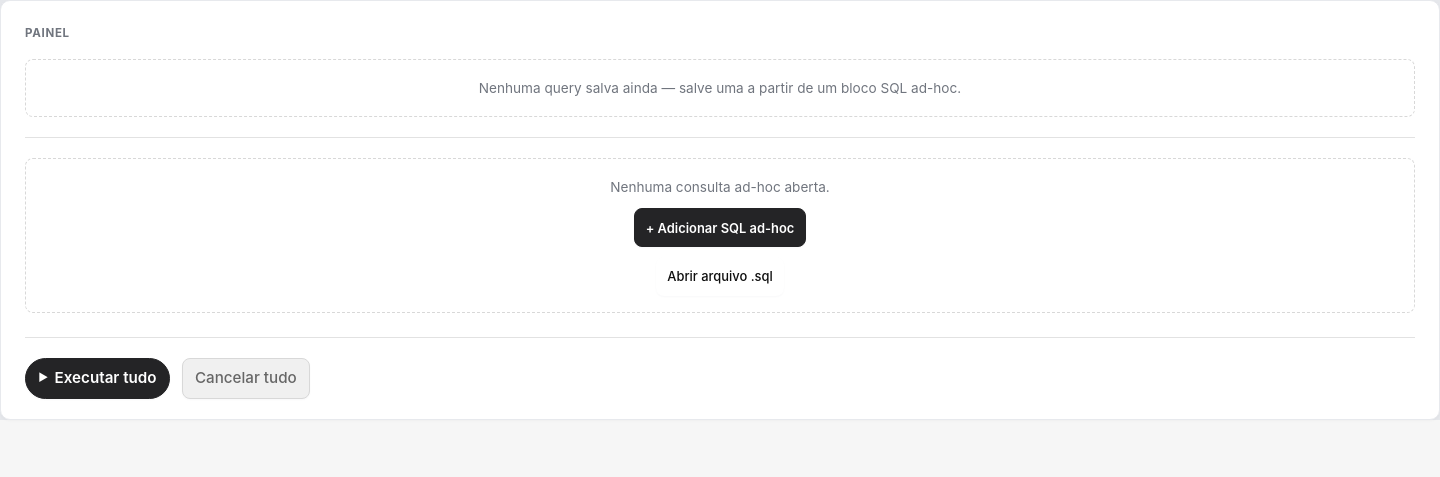
Test: Board › abrir arquivo .sql do disco › shows an inline error and opens no tab when reading the file fails
The image size is (1440, 477).
Click the button "Abrir arquivo .sql": click(720, 276) 656,257 -> 784,296
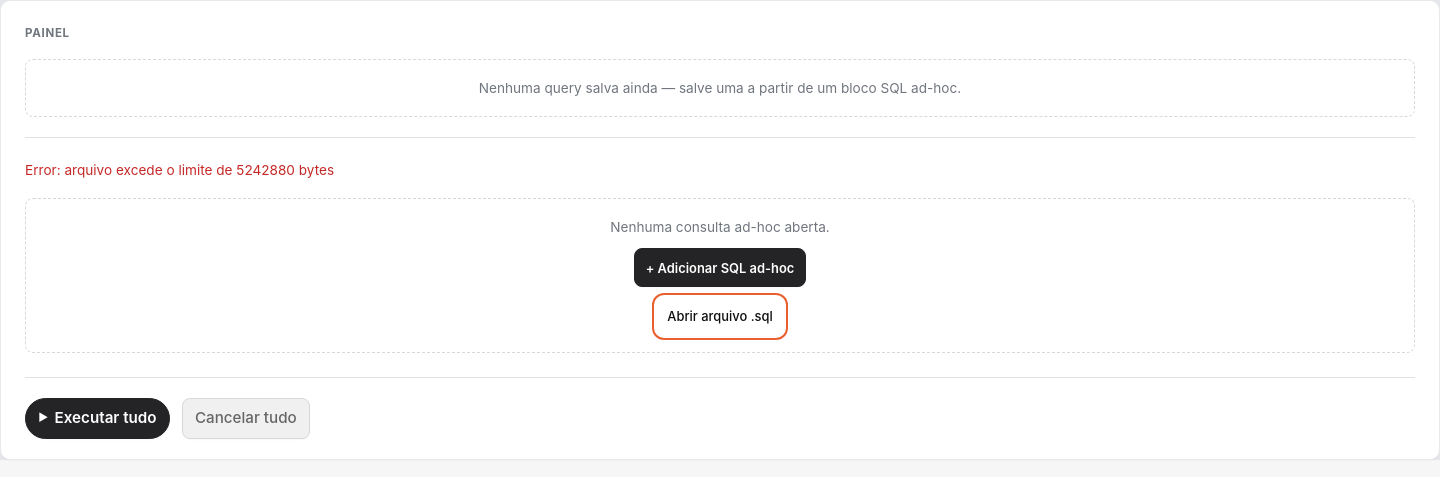
Check: the message shows "excede o limite", box 25,162 -> 334,178
